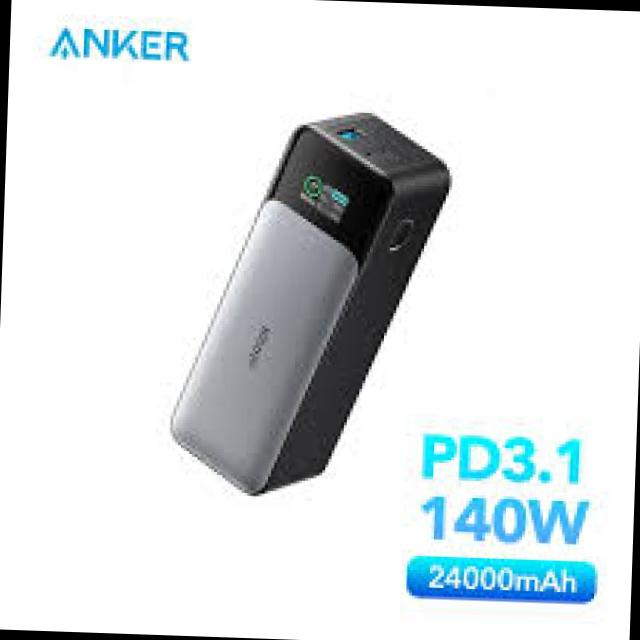power_bank: (166, 100, 458, 505)
